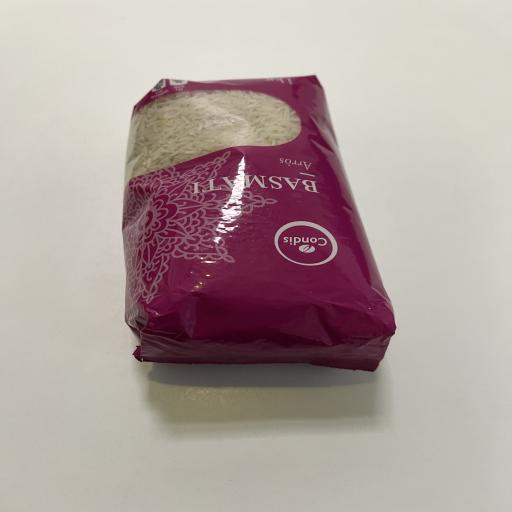rice: (120, 75, 396, 377)
